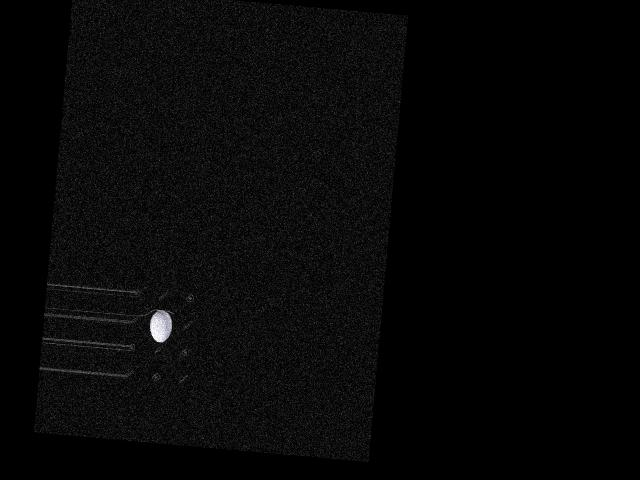egg: (148, 309, 173, 343)
